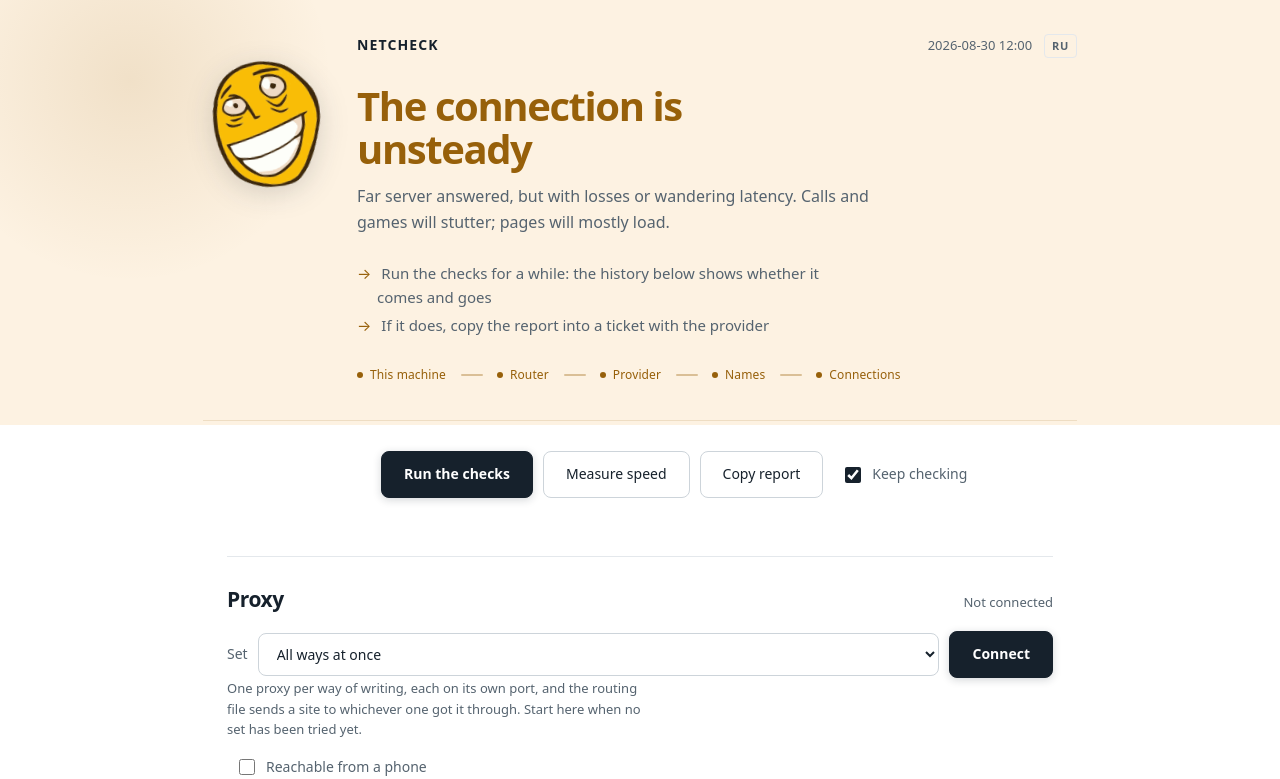
Test: the page › switches language without losing what is on screen
The width and height of the screenshot is (1280, 779).
expect the heading "The connection is unsteady" is shown: met, box [357,78,682,176]
Click the button "RU".
click(1061, 46)  # box [1044,34,1077,58]
(page scrolled)
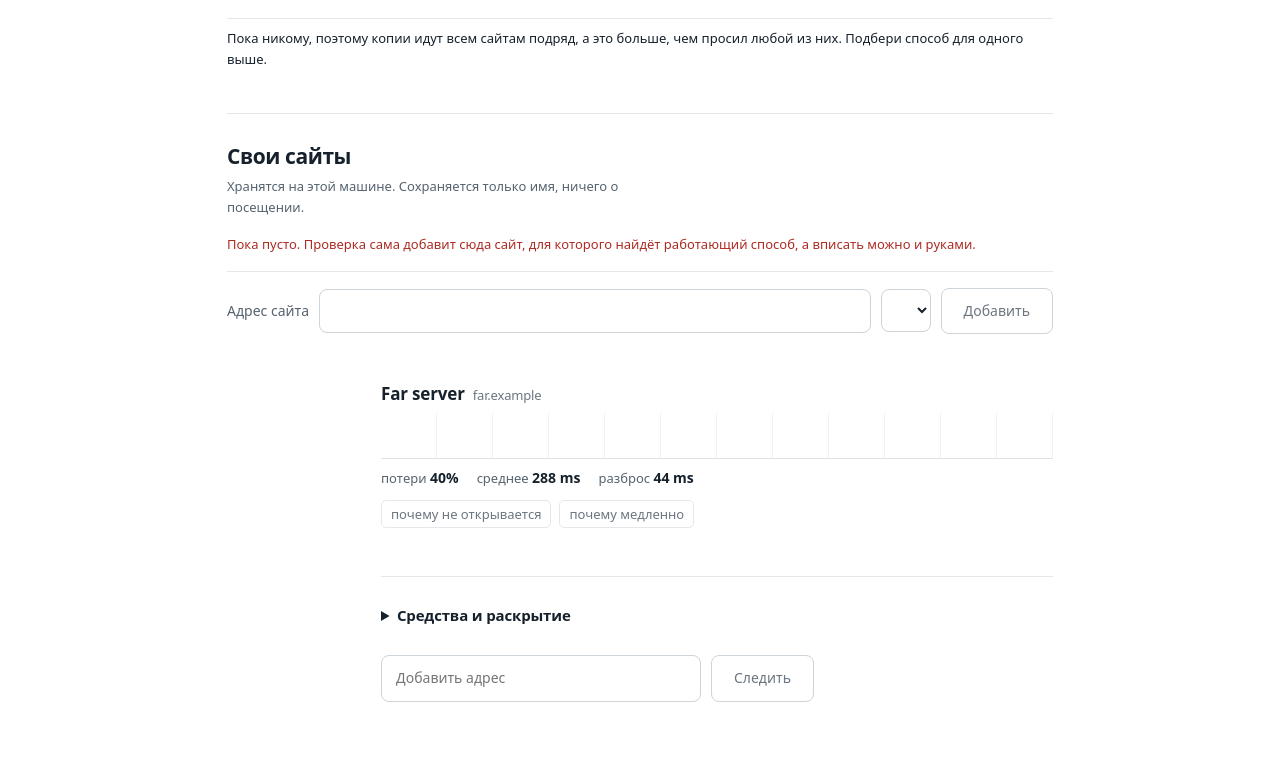
expect the text "far.example" is shown: met, box [473,386,542,404]
expect the button "RU" no longer shows "RU": met
